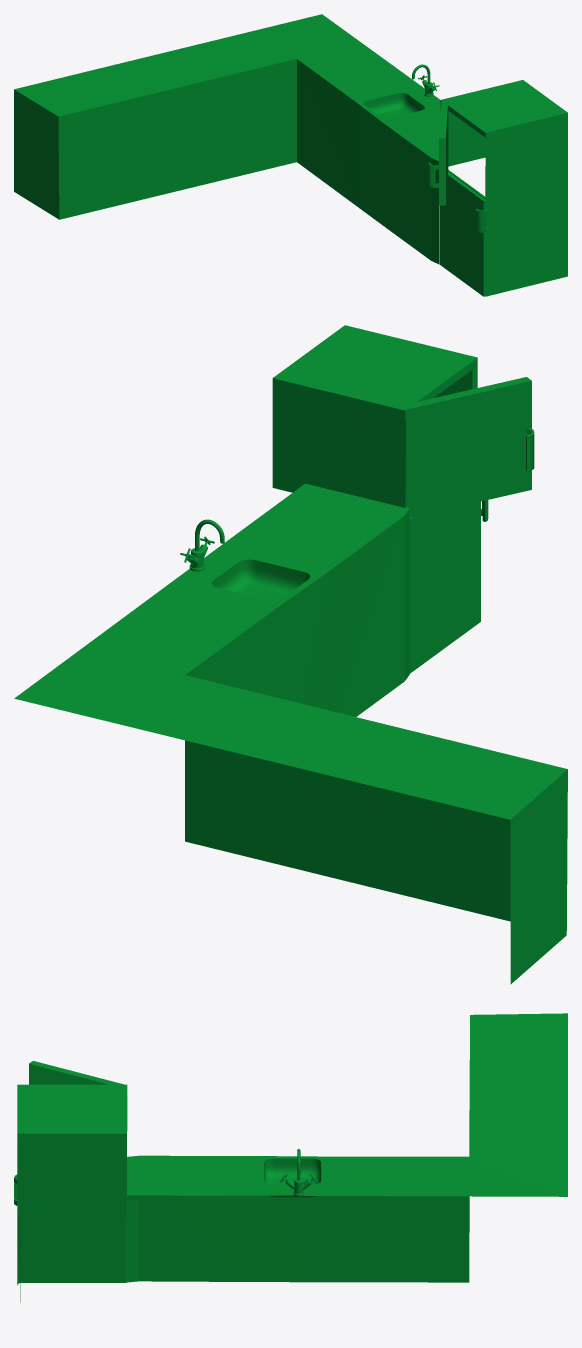
The model's file is desk2_low11.fbx.
3 renders of one model, top to bottom at view 1: azimuth 30°, elevation 25°; view 2: azimuth 150°, elevation 25°; view 3: azimuth 270°, elevation 25°, orthographic. The views are drawn at different scales.
Visible parts, largest first — view 1: Meuble2_low; view 2: Meuble2_low; view 3: Meuble2_low.
Part boxes in pixels (x1=…): Meuble2_low: x1=14, y1=14, x2=567, y2=296; Meuble2_low: x1=14, y1=325, x2=567, y2=984; Meuble2_low: x1=14, y1=1013, x2=567, y2=1302.
Bounding box in the file's own units: 368 × 176 × 441.
